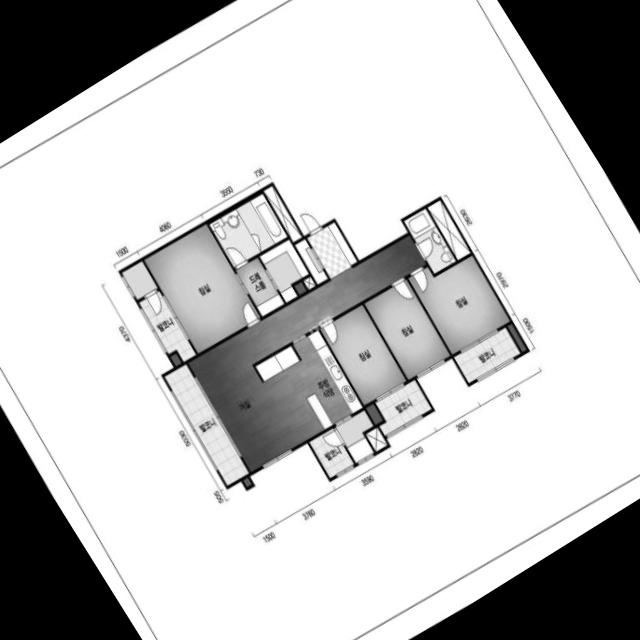background: (0, 0, 640, 640)
space_balconi: (163, 363, 248, 485), (138, 290, 195, 361), (453, 326, 520, 383), (374, 379, 431, 436), (308, 427, 354, 478)
space_bedroom: (143, 223, 260, 353), (407, 254, 509, 354), (363, 278, 450, 379), (319, 304, 406, 405)
space_dressroom: (258, 238, 308, 302), (234, 256, 284, 316)
space_front: (294, 221, 357, 284)
space_kitchen: (254, 329, 362, 443)
space_living_room: (187, 234, 425, 471)
space_other: (426, 199, 470, 260), (262, 184, 302, 242), (334, 409, 373, 463), (121, 260, 157, 299), (364, 426, 387, 452), (506, 323, 526, 352), (365, 402, 382, 424), (302, 275, 315, 289), (293, 281, 306, 295), (169, 352, 181, 366)
space_toilet: (208, 192, 287, 267), (403, 207, 455, 273)
